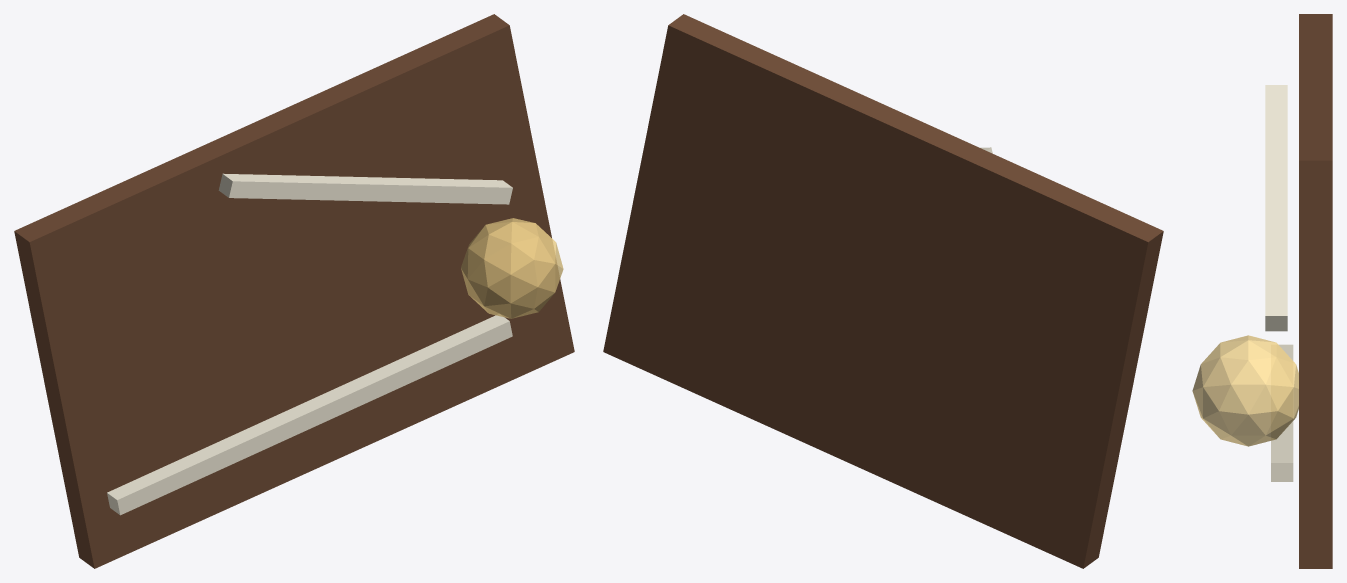
Rendered from 02_world_prop_polish.glb.
3 views of the same model, side by side, from view 1: azimuth 30°, elevation 25°; view 2: azimuth 150°, elevation 25°; view 3: azimuth 270°, elevation 25° (orthographic). The views are drawn at different scales.
Parts seen in each view (by area): view 1: object_overlay_plate, edge_wear_a, glow_socket, edge_wear_b; view 2: object_overlay_plate; view 3: object_overlay_plate, glow_socket, edge_wear_b, edge_wear_a.
Part boxes in pixels (x1,y1,x2,y2): object_overlay_plate: (14, 14, 574, 568); edge_wear_a: (107, 314, 512, 515); glow_socket: (461, 218, 563, 318); edge_wear_b: (218, 173, 512, 204); object_overlay_plate: (603, 14, 1163, 568); object_overlay_plate: (1299, 14, 1332, 568); glow_socket: (1192, 335, 1298, 446); edge_wear_b: (1265, 85, 1287, 331); edge_wear_a: (1271, 344, 1293, 481).
Bounding box in the file's own units: 1.23 × 0.95 × 0.25.
